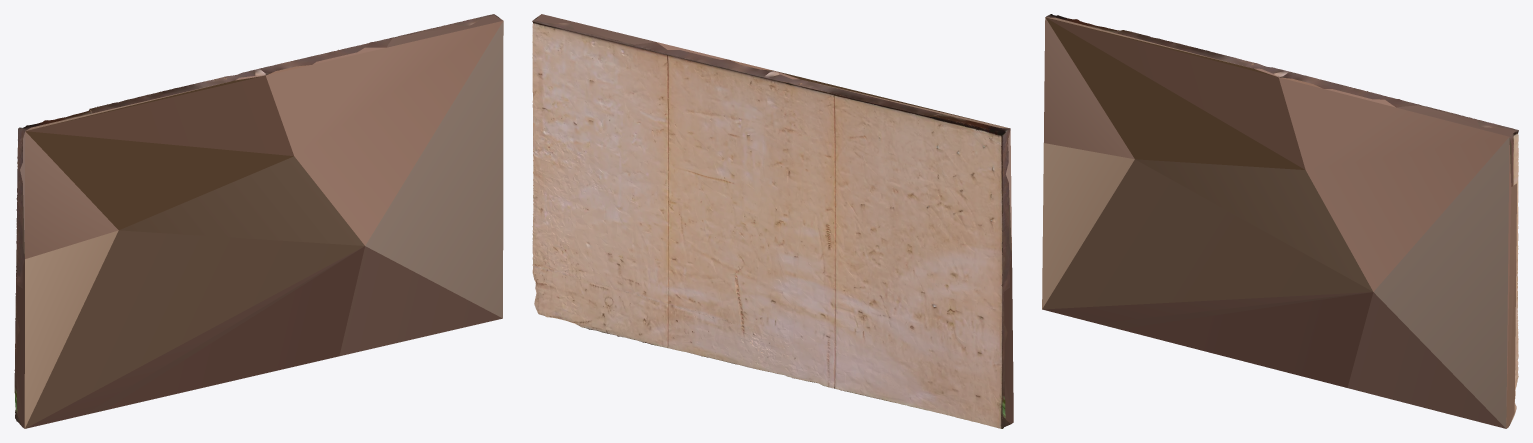
File: notice_board_foam.glb
The picture shows the model from 3 angles, left to right: view 1: azimuth 30°, elevation 25°; view 2: azimuth 150°, elevation 25°; view 3: azimuth 330°, elevation 25°; orthographic projection.
Visible parts, largest first — view 1: foam-notice_Model; view 2: foam-notice_Model; view 3: foam-notice_Model.
Part boxes in pixels (x1,y1,x2,y2): foam-notice_Model: (14,14,503,428); foam-notice_Model: (532,14,1013,428); foam-notice_Model: (1042,14,1518,428).
Size of the model in its own units: 1.44 by 0.864 by 0.0748.
Materials: 1 (1 with a texture image).
